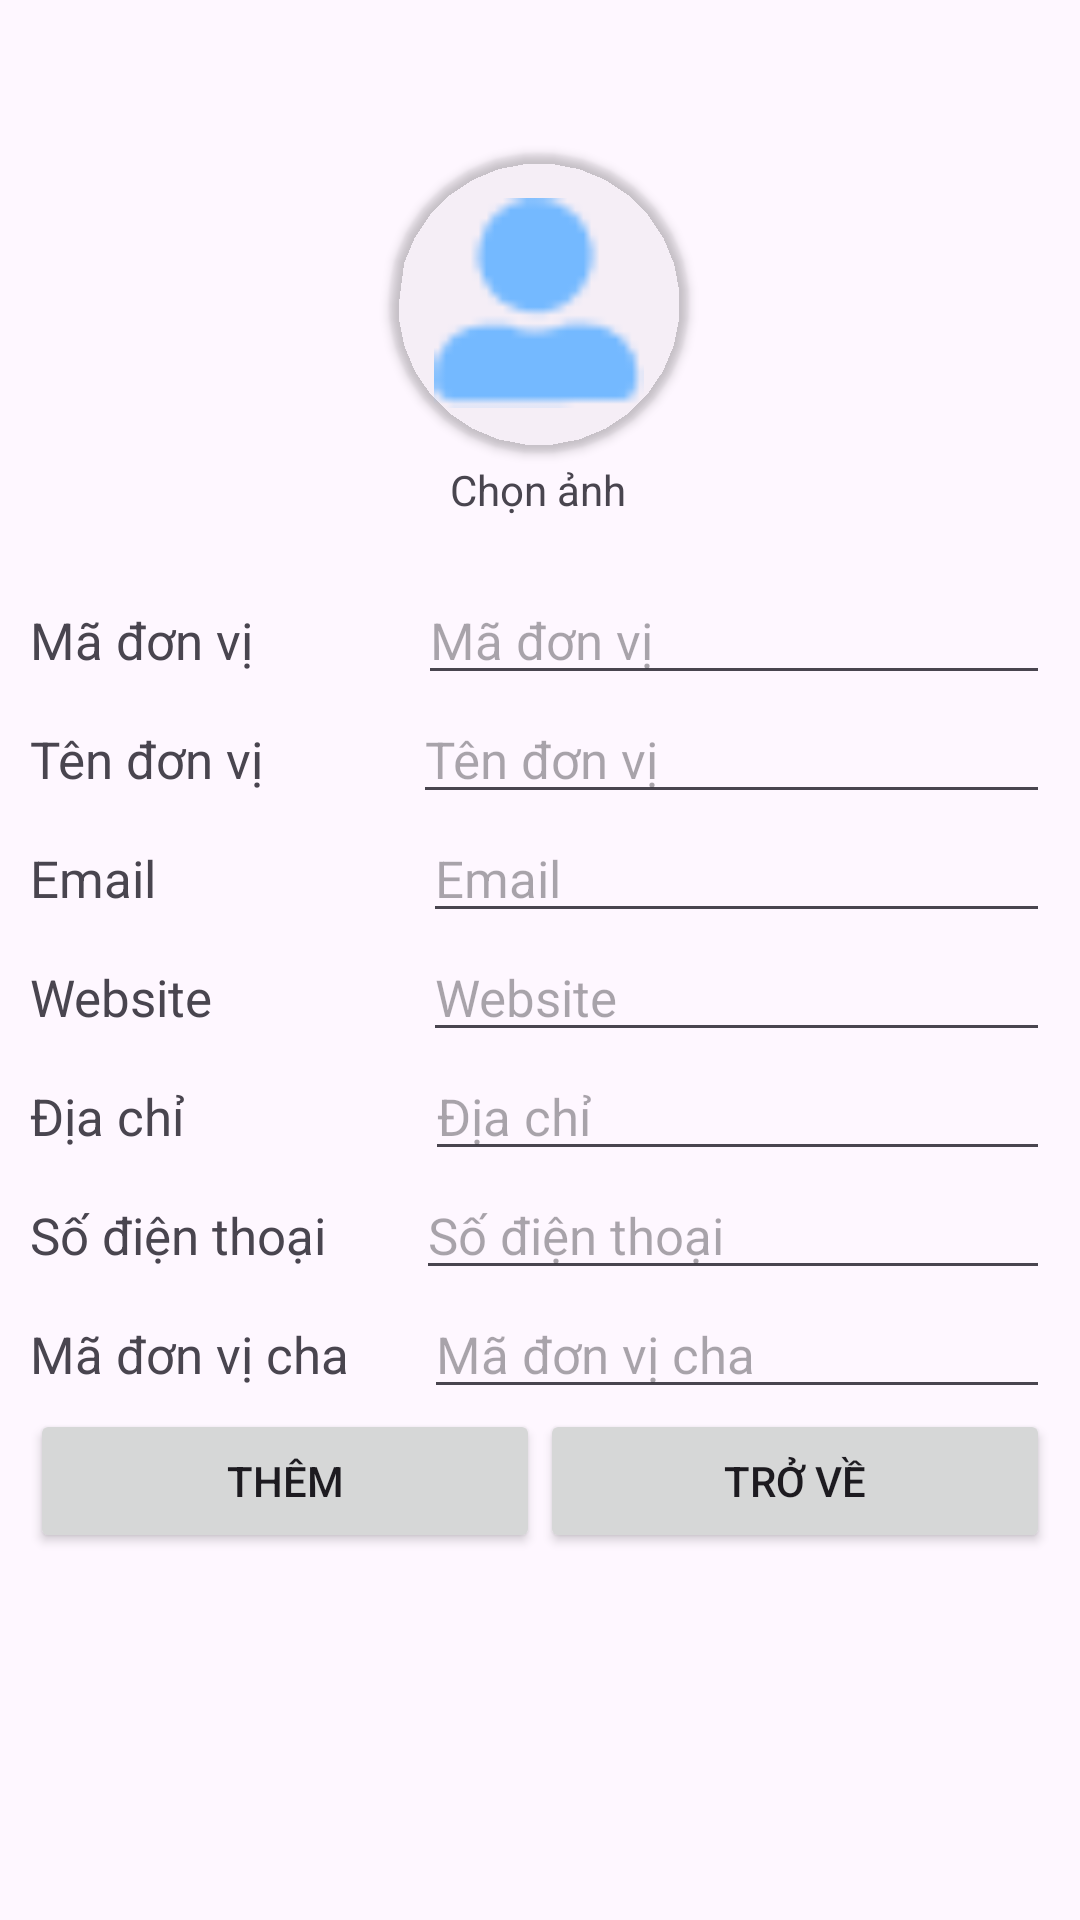

Icons on this 1080w x 1920h Android screen, each with its box as (x1, y1, x2, y2):
user: (434, 198, 639, 403)
